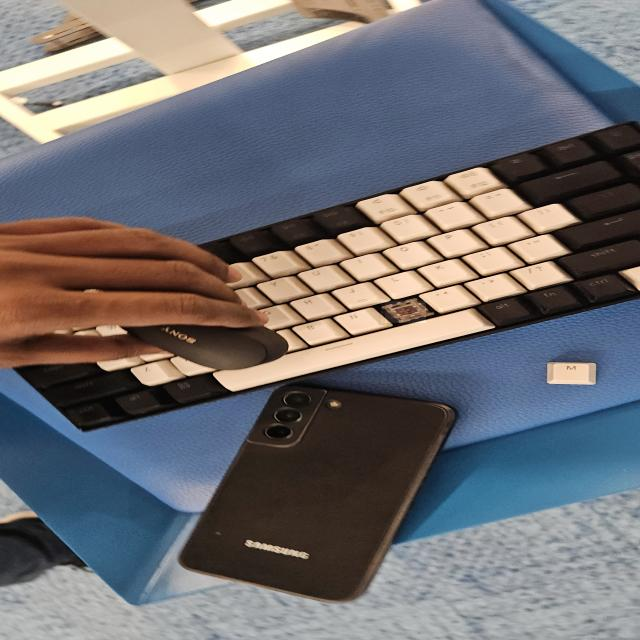C: (381, 300, 425, 323), (385, 301, 426, 323), (388, 303, 424, 322)
